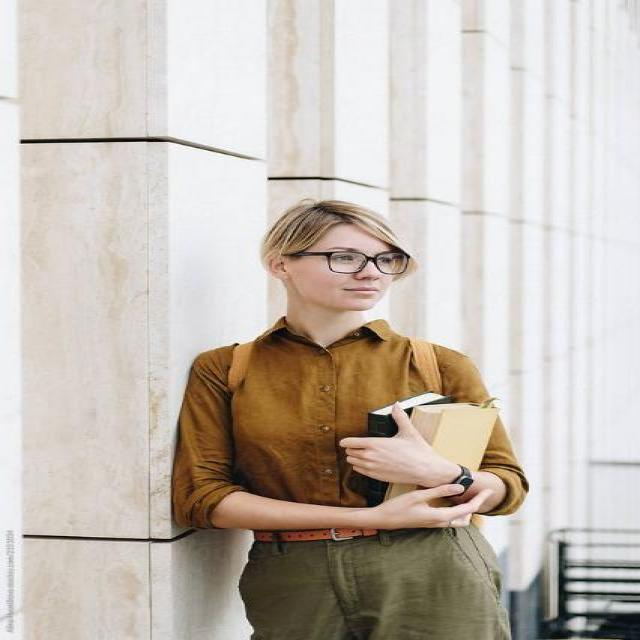glasses: (279, 248, 409, 276)
